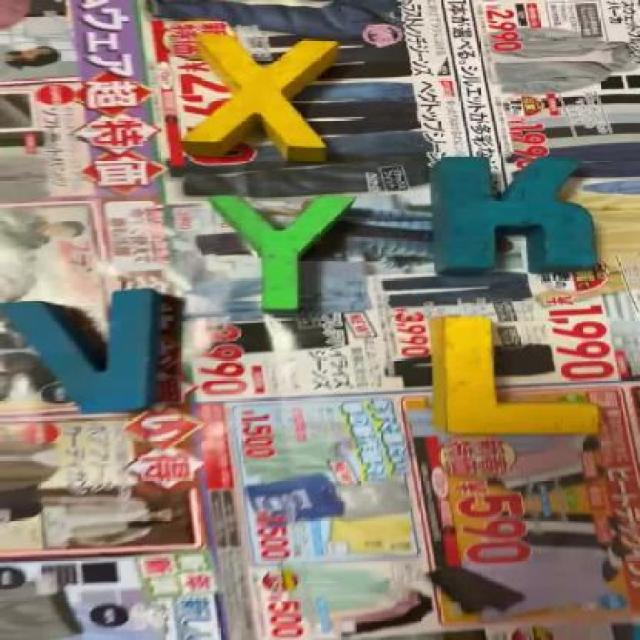K: (430, 158, 601, 271)
L: (429, 318, 602, 432)
V: (8, 287, 167, 415)
X: (187, 32, 342, 163)
Y: (210, 195, 353, 314)
